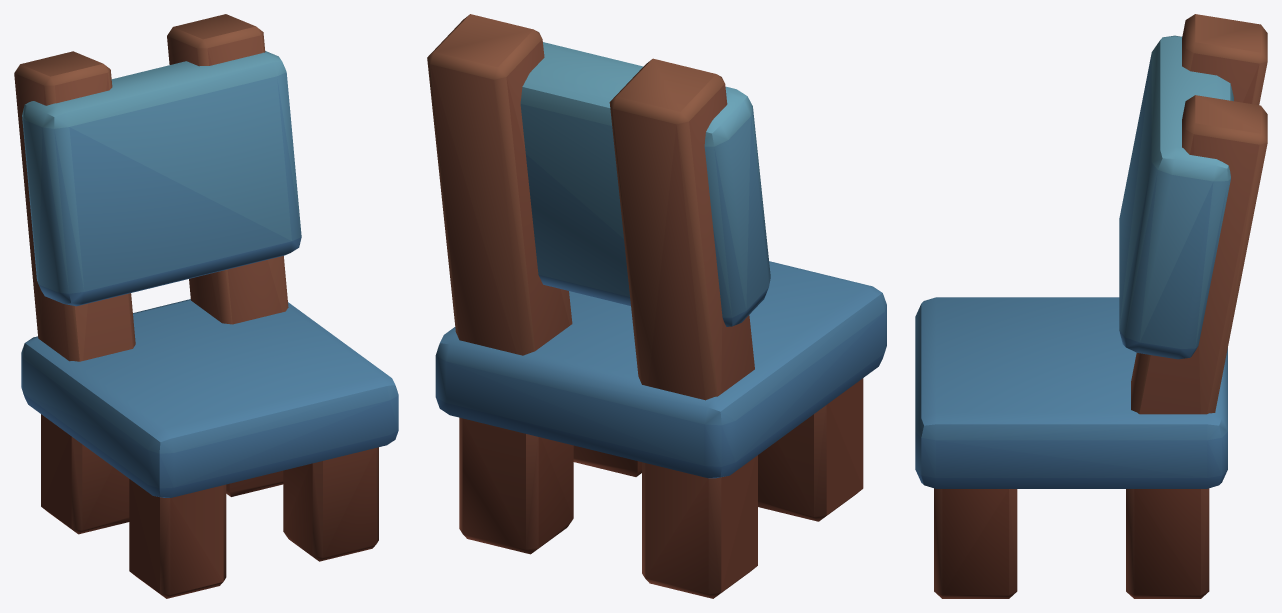
The model's file is kk_furniture_chair_B.glb.
The picture shows the model from 3 angles, left to right: view 1: azimuth 30°, elevation 25°; view 2: azimuth 150°, elevation 25°; view 3: azimuth 270°, elevation 25°; orthographic projection. The views are drawn at different scales.
Parts seen in each view (by area): view 1: kk_furniture_chair_B; view 2: kk_furniture_chair_B; view 3: kk_furniture_chair_B.
Part boxes in pixels (<box>): kk_furniture_chair_B: <box>14,14,398,598</box>; kk_furniture_chair_B: <box>427,14,886,598</box>; kk_furniture_chair_B: <box>915,14,1267,598</box>.
Bounding box in the file's own units: 0.75 × 1.26 × 0.8451.
